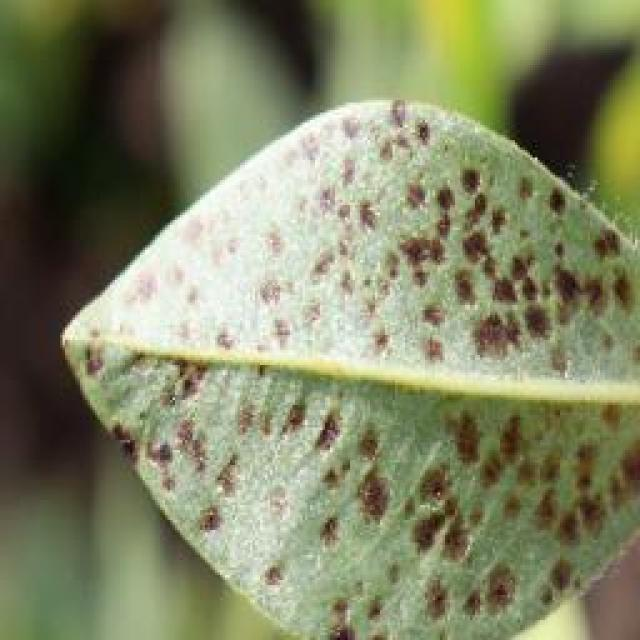Whitefly: (28, 99, 638, 611)
